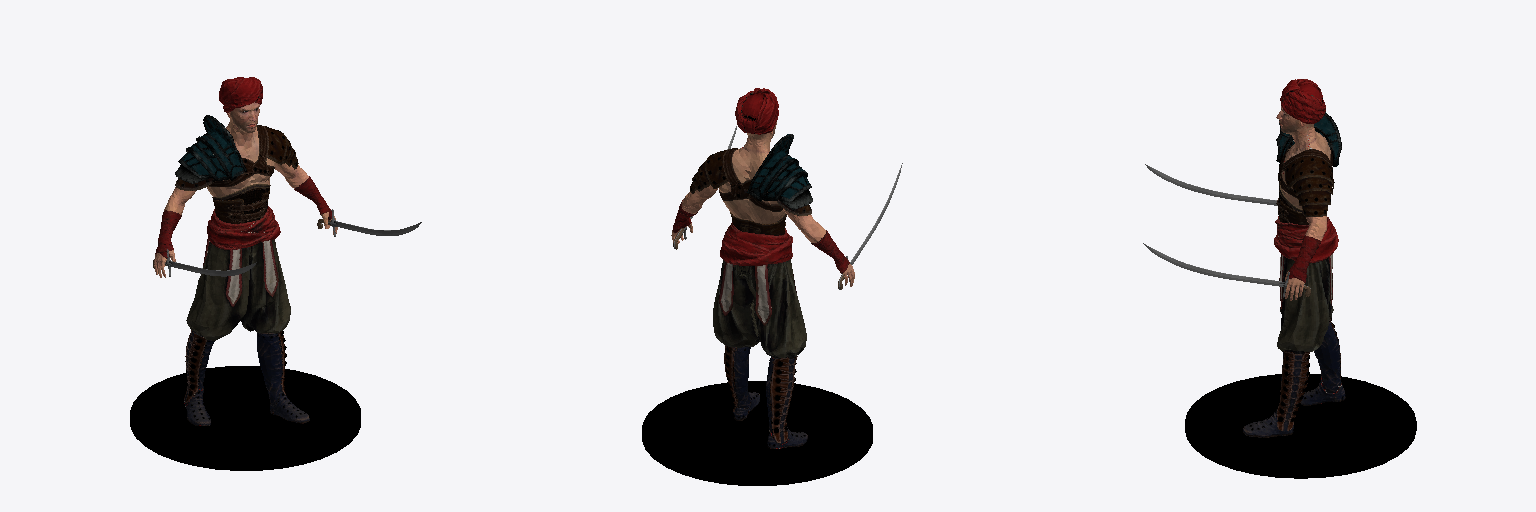
The picture shows the model from 3 angles: view 1: azimuth 30°, elevation 25°; view 2: azimuth 150°, elevation 25°; view 3: azimuth 270°, elevation 25°; orthographic projection.
Visible parts, largest first — view 1: full_body; view 2: full_body; view 3: full_body.
Boxes of the visible parts, box(x1,y1,x2,y2) form: full_body: box(130, 77, 421, 470); full_body: box(642, 88, 902, 485); full_body: box(1143, 79, 1416, 478).
Size of the model in its own units: 1.4 by 2.32 by 1.65.
Materials: 1 (1 with a texture image).